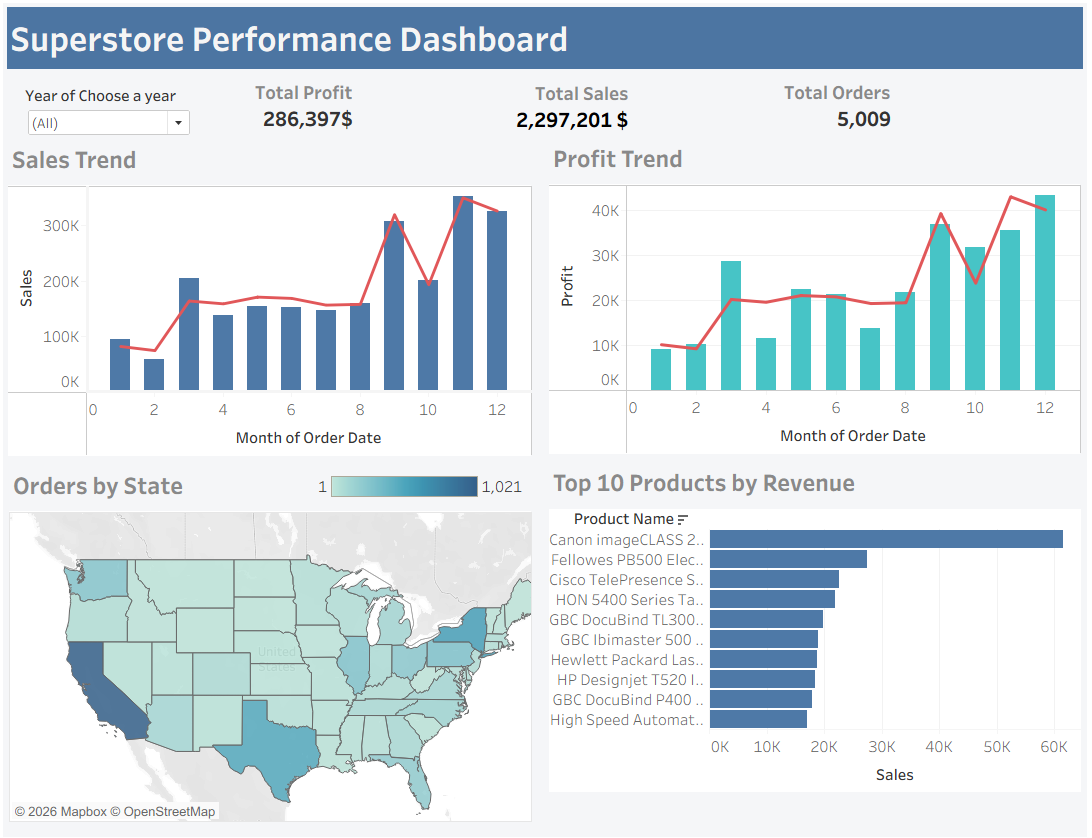

The page's visual inventory and layout, read from the dashboard file:
{"tool":"tableau","page":{"name":"Dashboard 3","canvas":[1100,850],"ordinal":0},"visuals":[{"type":"text","box":[8,8,1084,70]},{"type":"worksheet","title":"Total Profit","mark":"Automatic","box":[242,85,274,60]},{"type":"worksheet","title":"Total Orders","mark":"Automatic","box":[727,85,366,60]},{"type":"worksheet","title":"Total Sales","mark":"Automatic","box":[478,86,287,62]},{"type":"filter","title":"Total Orders","param":"[federated.04jxd820wvsjb61gphxu11g3qhqy].[yr:Choose a year:ok]","box":[30,90,168,61]},{"type":"worksheet","title":"Profit Trend","mark":"Automatic","rows":["Profit","Calculation_0213641107042306"],"cols":["Order Date"],"box":[554,143,532,316]},{"type":"worksheet","title":"Sales Trend","mark":"Automatic","rows":["Sales","Calculation_0213641107042306"],"cols":["Order Date"],"box":[13,144,524,317]},{"type":"worksheet","title":"Top 10 Products by Revenue","mark":"Automatic","rows":["Product Name"],"cols":["Sales"],"box":[554,467,532,361]},{"type":"worksheet","title":"Orders by State","mark":"Automatic","box":[14,470,523,357]},{"type":"legend","title":"Orders by State","param":"[federated.04jxd820wvsjb61gphxu11g3qhqy].[usr:Calculation_0213641107042306:qk]","box":[319,477,213,31]}]}

Visuals, with their boxes in screenshot pixels (x1, y1, x2, y2), scaled from the page's 1100x850 canvas onto the 1092x838 screenshot:
text: box(8, 8, 1084, 77)
"Total Profit" worksheet: box(240, 84, 512, 143)
"Total Orders" worksheet: box(722, 84, 1085, 143)
"Total Sales" worksheet: box(475, 85, 759, 146)
"Total Orders" filter: box(30, 89, 197, 149)
"Profit Trend" worksheet: box(550, 141, 1078, 453)
"Sales Trend" worksheet: box(13, 142, 533, 454)
"Top 10 Products by Revenue" worksheet: box(550, 460, 1078, 816)
"Orders by State" worksheet: box(14, 463, 533, 815)
"Orders by State" legend: box(317, 470, 528, 501)
